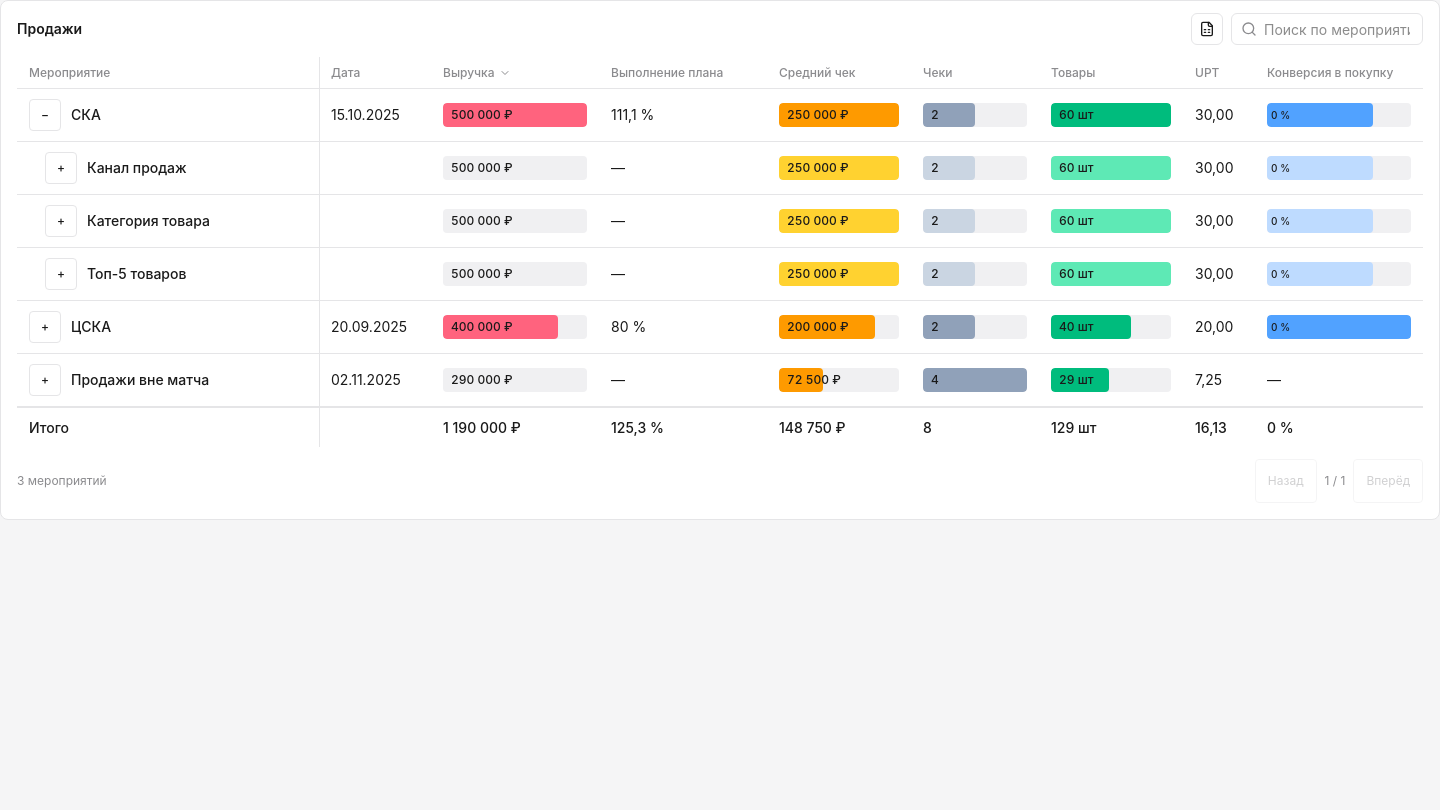
Scenario: MerchMatchSalesTable drill-down › keeps a colored revenue bar only on match rows that have a plan
Expected: the text "СКА" is shown, [71, 106, 101, 123]
Expected: the text "Продажи вне матча" is shown, [71, 371, 209, 388]
Click the button "+" next to "Канал продаж" at (61, 168), box [45, 152, 77, 184]
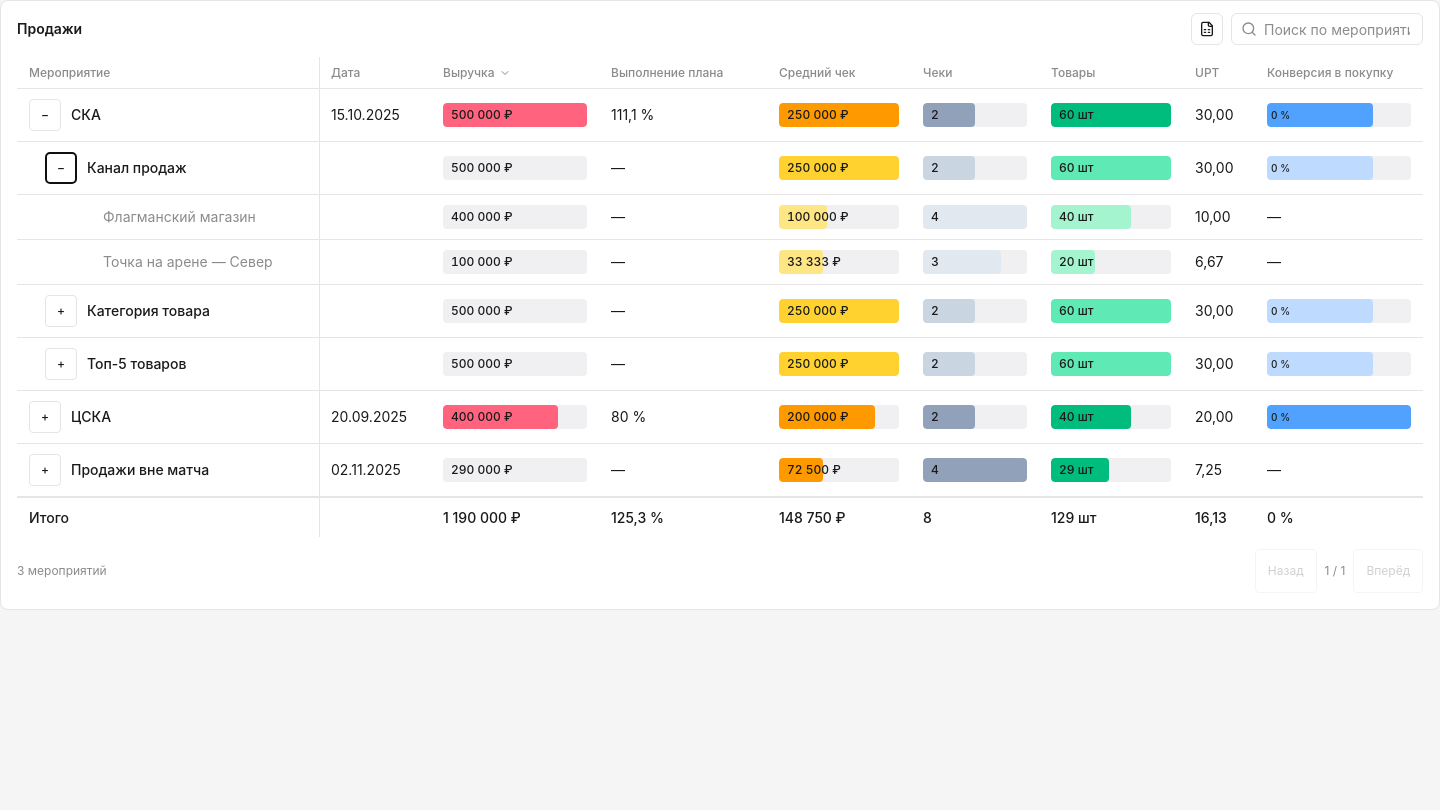
Click the button "+" next to "Категория товара" at (61, 311), box [45, 295, 77, 327]
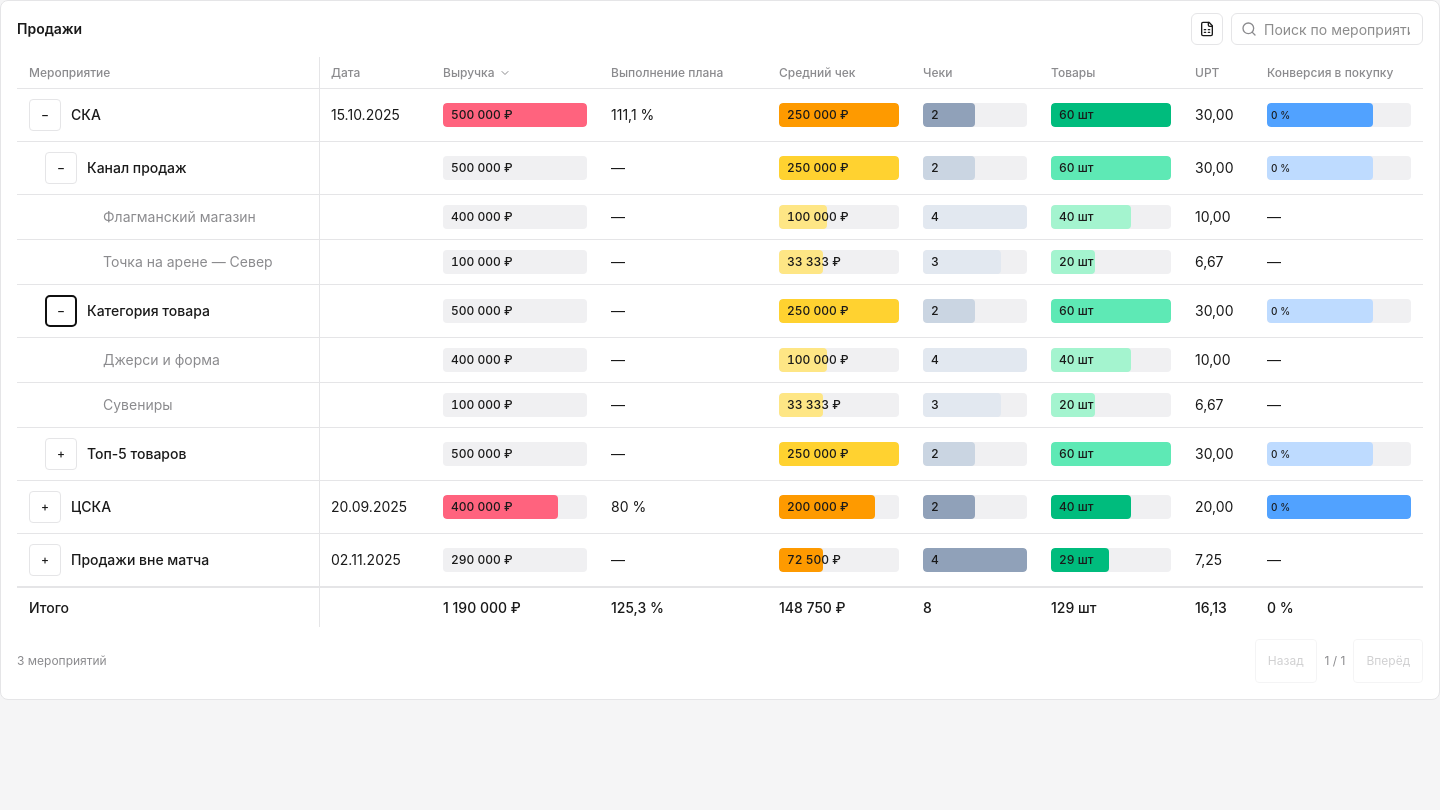
Click the button "+" next to "Топ-5 товаров" at (61, 454), box [45, 438, 77, 470]
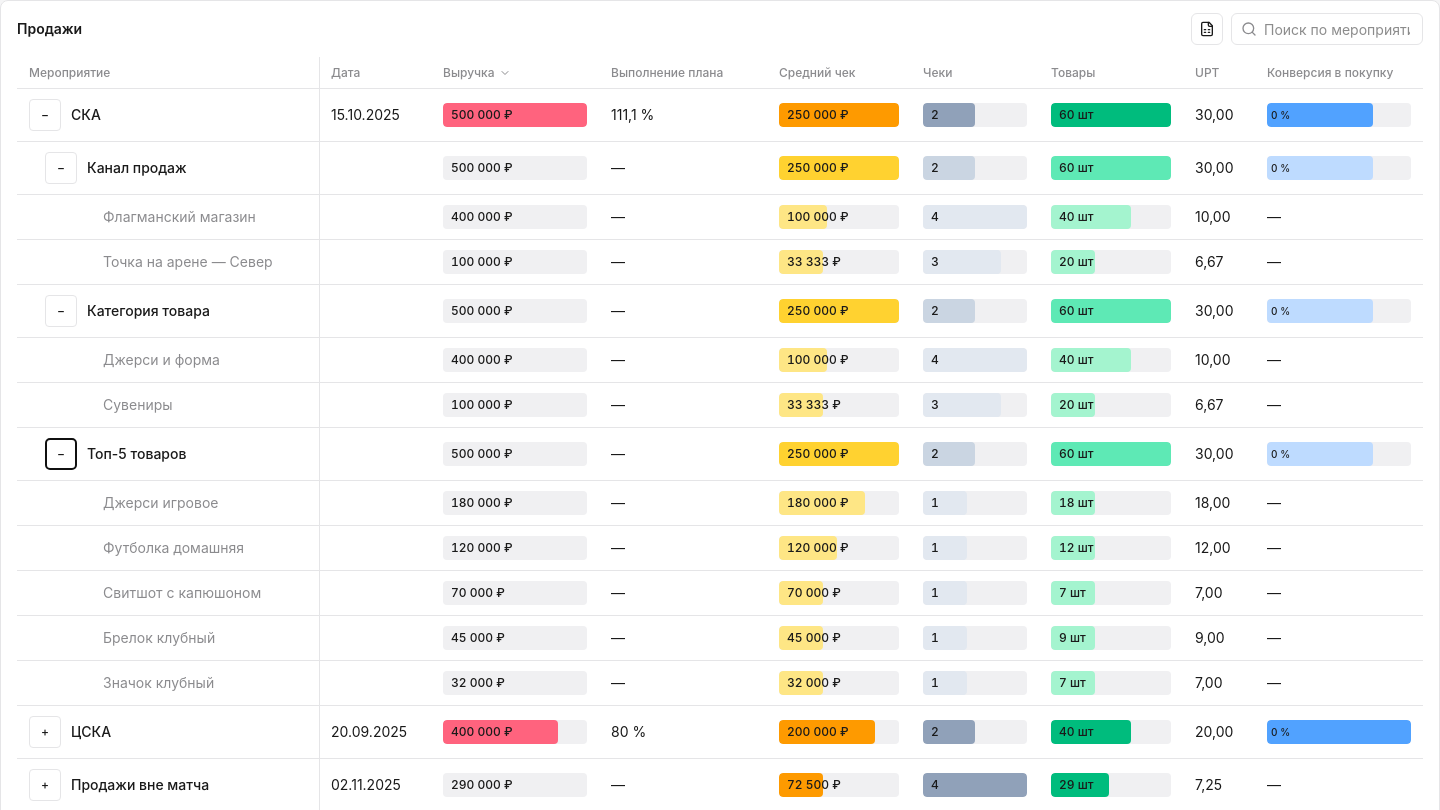
Now the text "Джерси и форма" is shown, box [103, 351, 220, 368]
Now the text "Флагманский магазин" is shown, box [103, 208, 256, 225]
Now the text "Джерси игровое" is shown, box [103, 494, 218, 511]
